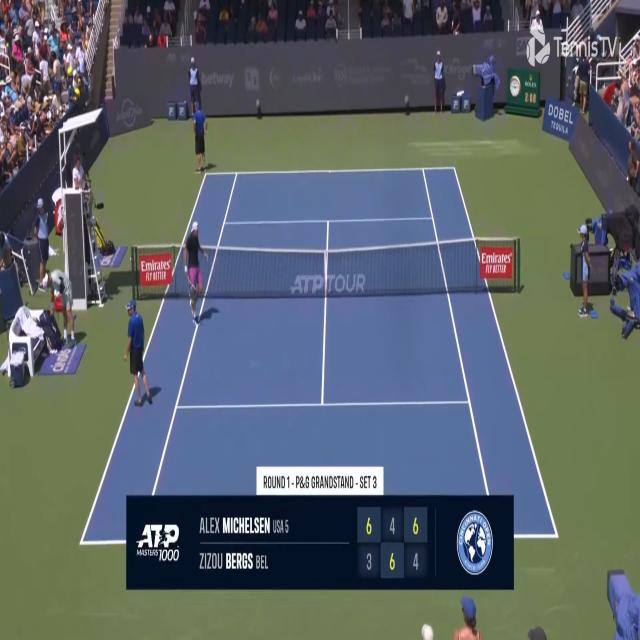tennis-player: (184, 217, 208, 330)
